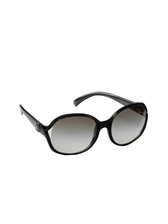glasses: (11, 89, 154, 157)
